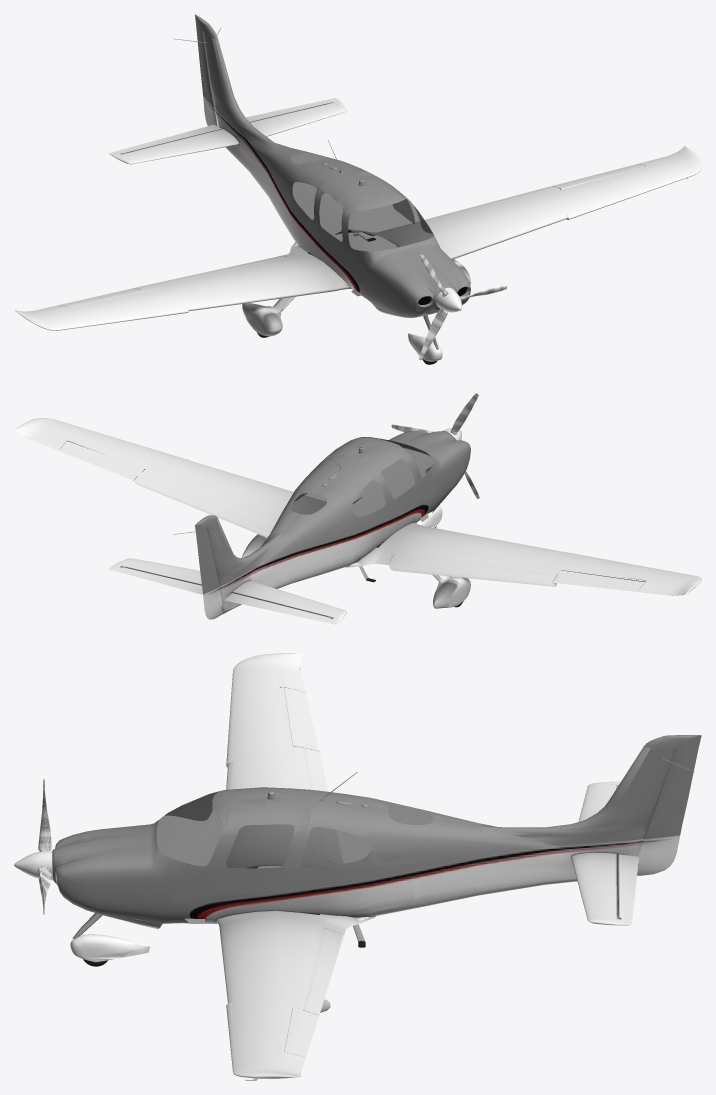
The picture shows the model from 3 angles, top to bottom: view 1: azimuth 30°, elevation 25°; view 2: azimuth 150°, elevation 25°; view 3: azimuth 270°, elevation 25°; orthographic projection. The views are drawn at different scales.
Visible parts, largest first — view 1: Exterior, Spin_0, Pose_flaps_0; view 2: Exterior, Pose_flaps_0, Spin_0, Pose_flaps_1, Pose_flaps_2, Pose_flaps_3; view 3: Exterior, Pose_flaps_0, Spin_0.
Boxes of the visible parts, x1=… form: Exterior: x1=14, y1=14, x2=701, y2=364; Spin_0: x1=419, y1=254, x2=506, y2=359; Pose_flaps_0: x1=134, y1=186, x2=556, y2=289; Exterior: x1=14, y1=418, x2=701, y2=624; Pose_flaps_0: x1=134, y1=473, x2=557, y2=582; Spin_0: x1=391, y1=393, x2=479, y2=498; Pose_flaps_1: x1=134, y1=481, x2=553, y2=584; Pose_flaps_2: x1=135, y1=483, x2=554, y2=585; Pose_flaps_3: x1=136, y1=484, x2=555, y2=586; Exterior: x1=52, y1=653, x2=701, y2=1080; Pose_flaps_0: x1=303, y1=748, x2=344, y2=1014; Spin_0: x1=14, y1=779, x2=51, y2=914.
Bounding box in the file's own units: 11.52 × 2.92 × 7.91.
7 materials, 3 textured.
